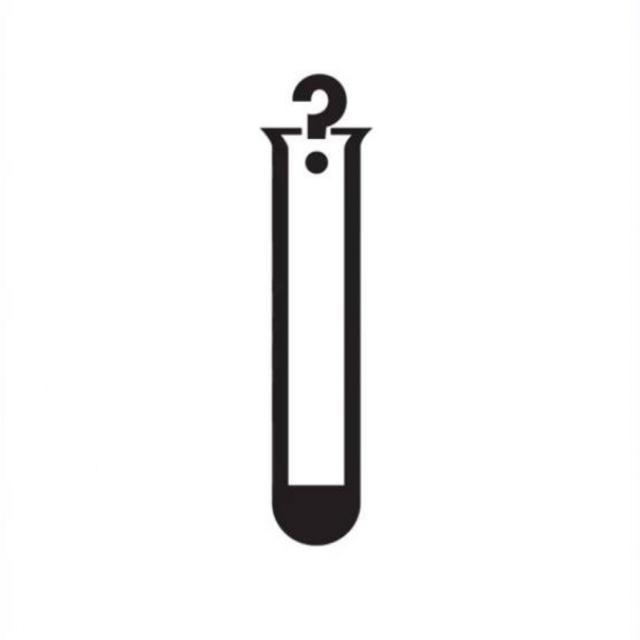For IVD perfomance evaluation only: (261, 71, 376, 550)
